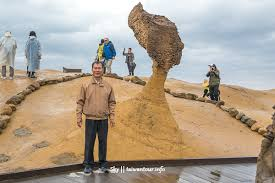yehliu: (123, 1, 193, 72)
